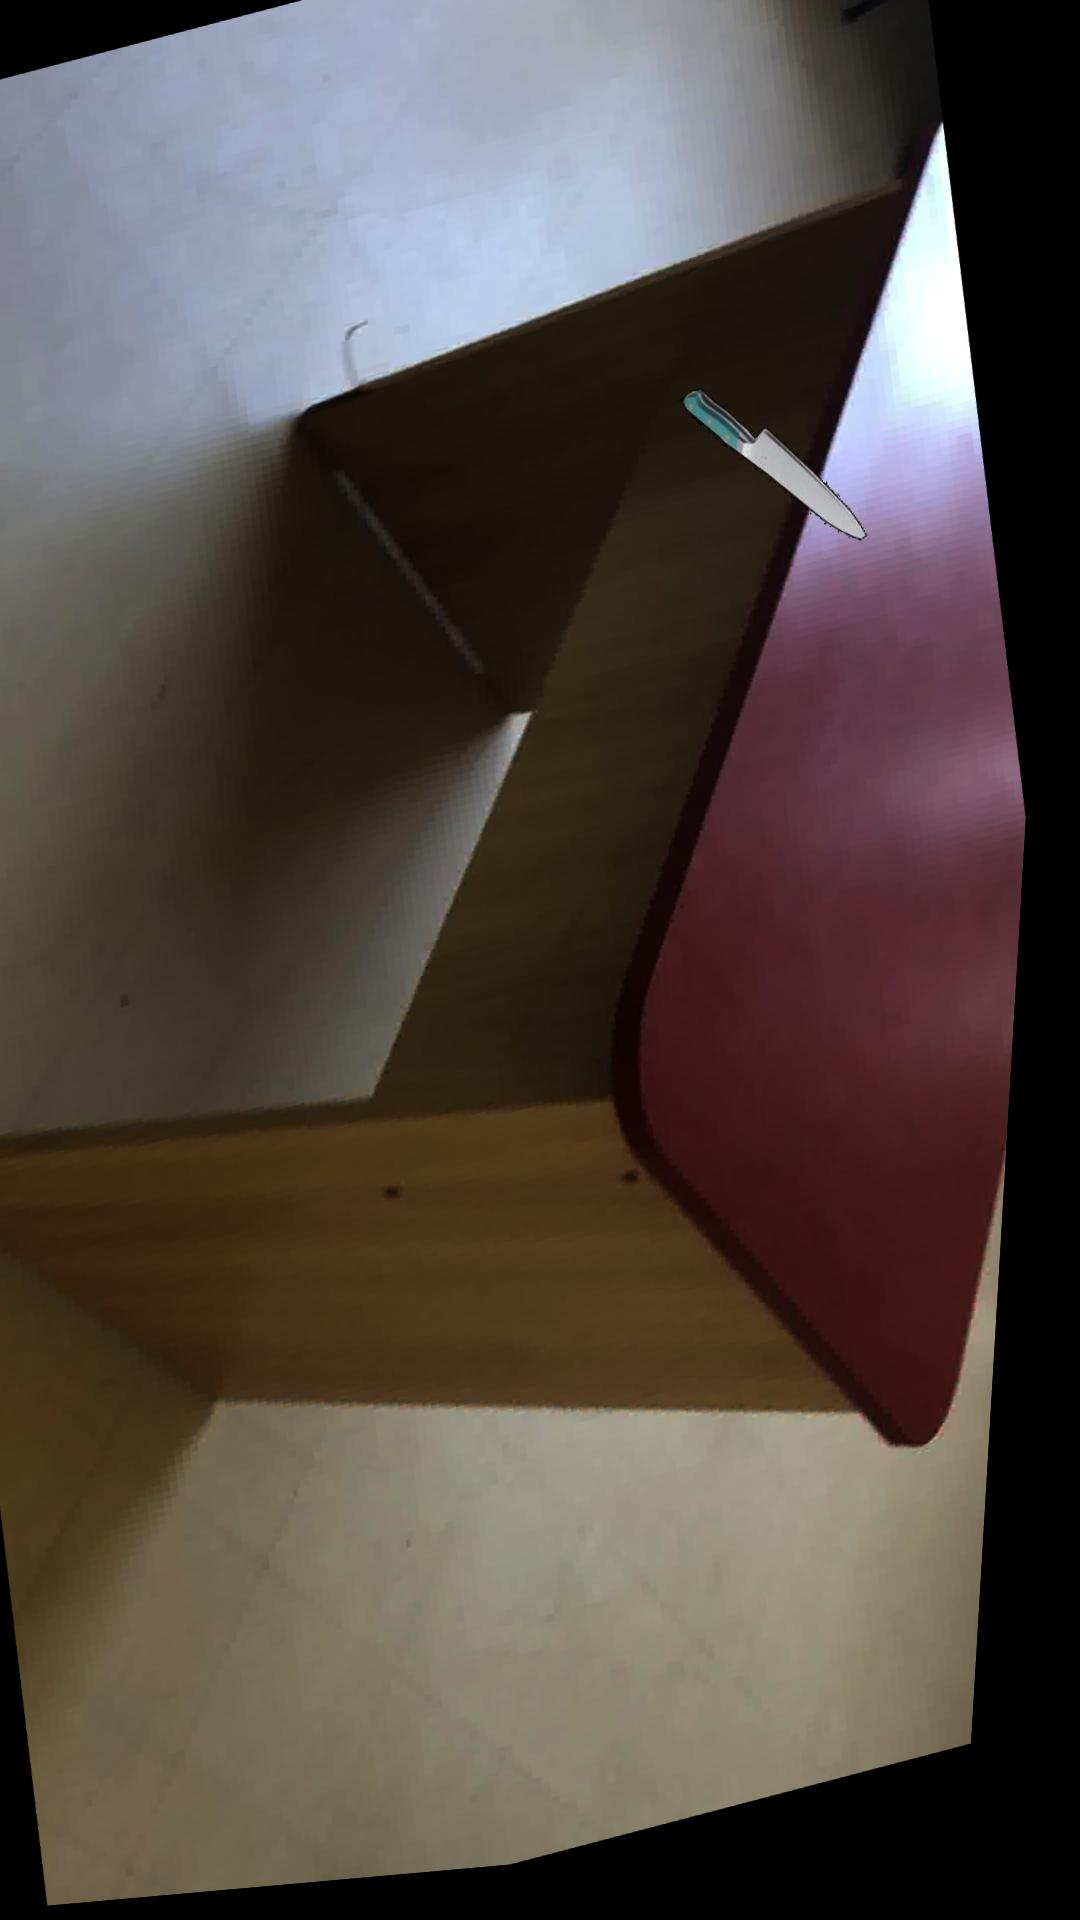knife: (687, 402, 873, 555)
